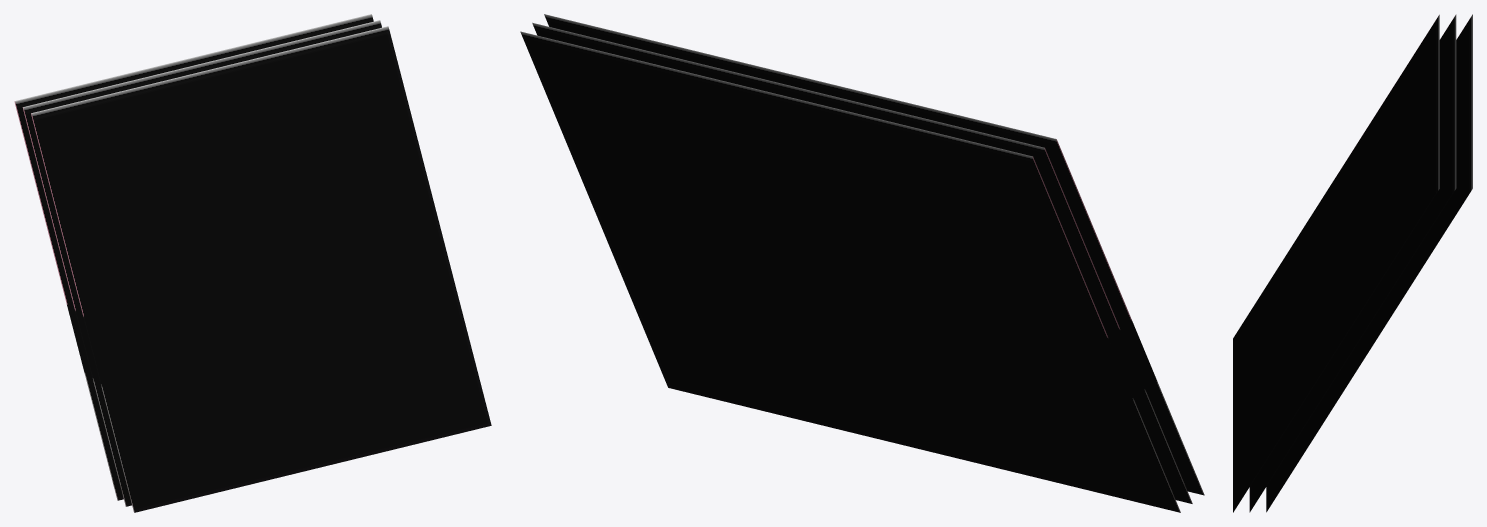
The model's file is discs.glb.
The picture shows the model from 3 angles, left to right: view 1: azimuth 30°, elevation 25°; view 2: azimuth 150°, elevation 25°; view 3: azimuth 270°, elevation 25°; orthographic projection. The views are drawn at different scales.
Parts seen in each view (by area): view 1: Vinyl3_lambert5_0, Vinyl1_lambert5_0, Vinyl2_lambert5_0; view 2: Vinyl1_lambert5_0, Vinyl2_lambert5_0, Vinyl3_lambert5_0; view 3: Vinyl3_lambert5_0, Vinyl2_lambert5_0, Vinyl1_lambert5_0.
Part boxes in pixels (left/top/right/bottom): Vinyl3_lambert5_0: left=31, top=26, right=491, bottom=512; Vinyl1_lambert5_0: left=14, top=14, right=373, bottom=500; Vinyl2_lambert5_0: left=22, top=20, right=381, bottom=506; Vinyl1_lambert5_0: left=520, top=31, right=1180, bottom=512; Vinyl2_lambert5_0: left=532, top=22, right=1192, bottom=503; Vinyl3_lambert5_0: left=544, top=14, right=1204, bottom=495; Vinyl3_lambert5_0: left=1233, top=14, right=1439, bottom=512; Vinyl2_lambert5_0: left=1249, top=14, right=1456, bottom=512; Vinyl1_lambert5_0: left=1266, top=14, right=1472, bottom=512.
Size of the model in its own units: 0.5 by 0.433 by 0.2901.
Materials: 1 (1 with a texture image).
